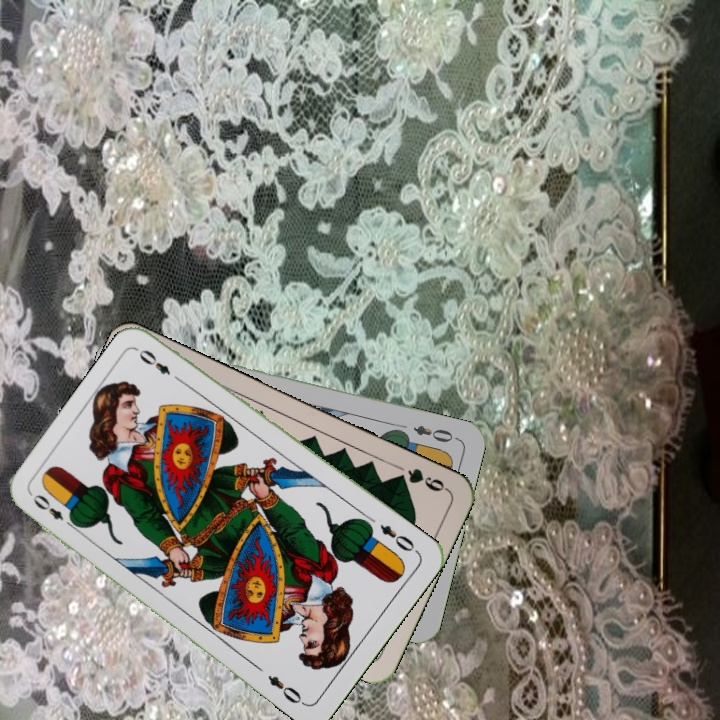EO: (29, 490, 79, 532), (375, 520, 417, 555), (409, 421, 461, 445)
G9: (391, 464, 451, 494)
